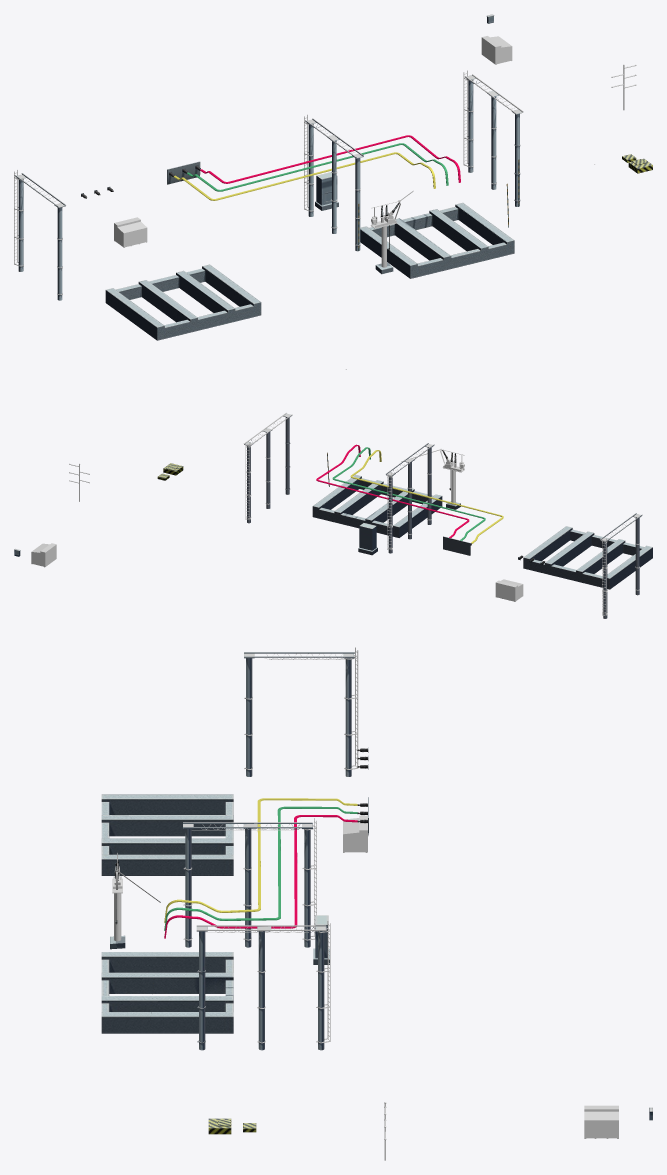
The picture shows the model from 3 angles, top to bottom: view 1: azimuth 30°, elevation 25°; view 2: azimuth 150°, elevation 25°; view 3: azimuth 270°, elevation 25°; orthographic projection. The views are drawn at different scales.
Parts seen in each view (by area): view 1: 6-圆柱, 6-材质.17 (×3), 6-材质.13 (×3), 6-房子右侧电线杆; view 2: 6-圆柱, 6-材质.17 (×2), 6-材质.13 (×3), 6-房子右侧电线杆; view 3: 6-圆柱, 6-材质.17 (×3), 6-房子右侧电线杆, 6-材质.13 (×3).
Boxes of the visible parts, left/top/right/bottom form: 6-圆柱: left=14, top=14, right=652, bottom=340; 6-材质.17 (×3): left=14, top=36, right=512, bottom=267; 6-材质.13 (×3): left=173, top=135, right=460, bottom=200; 6-房子右侧电线杆: left=305, top=118, right=508, bottom=251; 6-圆柱: left=14, top=413, right=652, bottom=618; 6-材质.17 (×2): left=31, top=442, right=635, bottom=615; 6-材质.13 (×3): left=316, top=444, right=503, bottom=543; 6-房子右侧电线杆: left=327, top=443, right=434, bottom=553; 6-圆柱: left=101, top=652, right=652, bottom=1134; 6-材质.17 (×3): left=116, top=647, right=618, bottom=1138; 6-房子右侧电线杆: left=151, top=822, right=312, bottom=1009; 6-材质.13 (×3): left=164, top=798, right=357, bottom=938.
Size of the model in its own units: 38.81 by 6.26 by 26.56.
12 materials, 5 textured.
